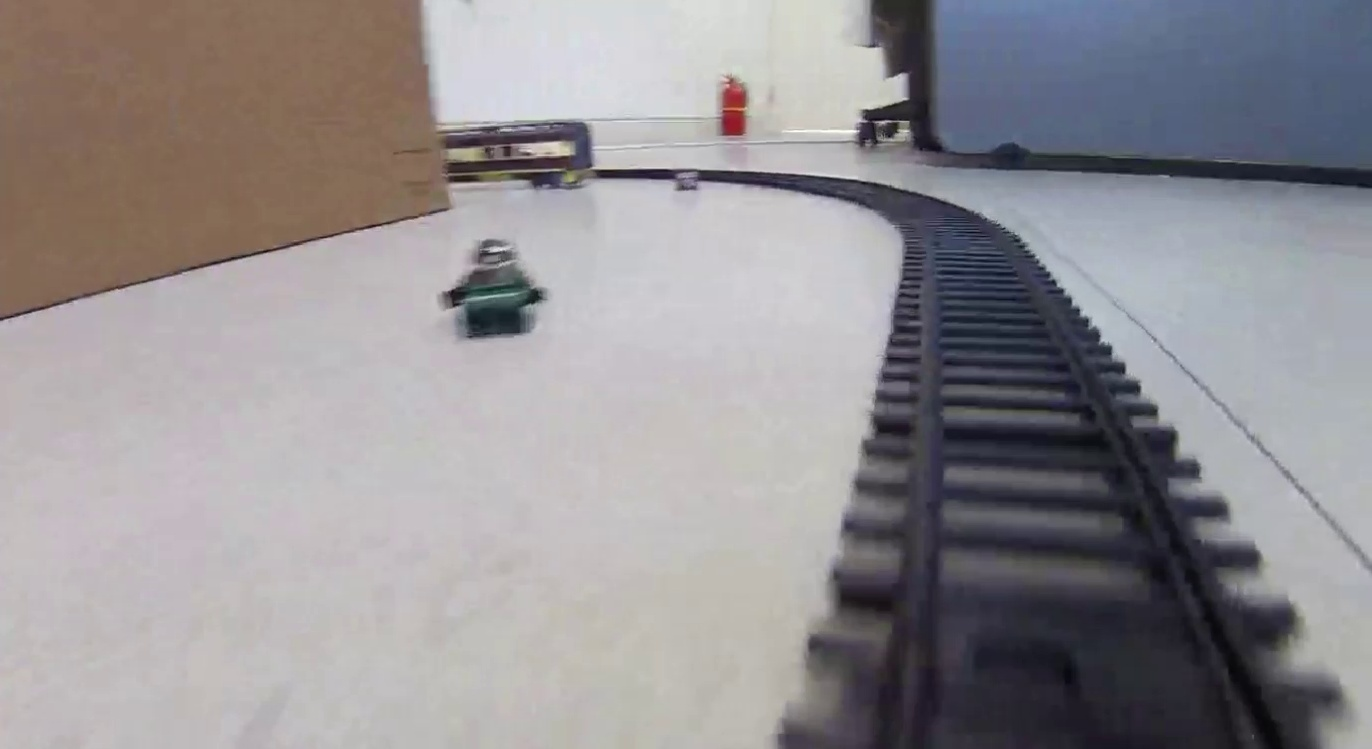people: (438, 236, 549, 337)
